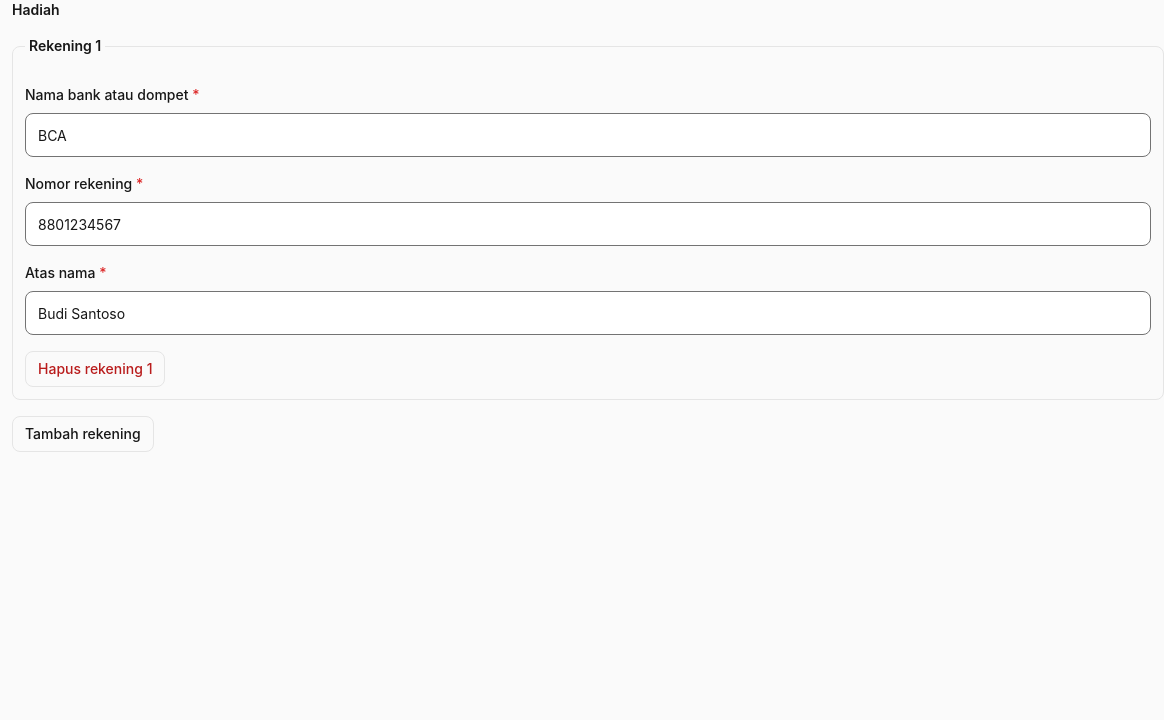
Test: the panel edits collections row by row › does not POST a new row until the API's required fields are filled
This screenshot has width=1164, height=720.
Click the button "Tambah rekening". click: (83, 434)
box: [12,416,154,452]
(page scrolled)
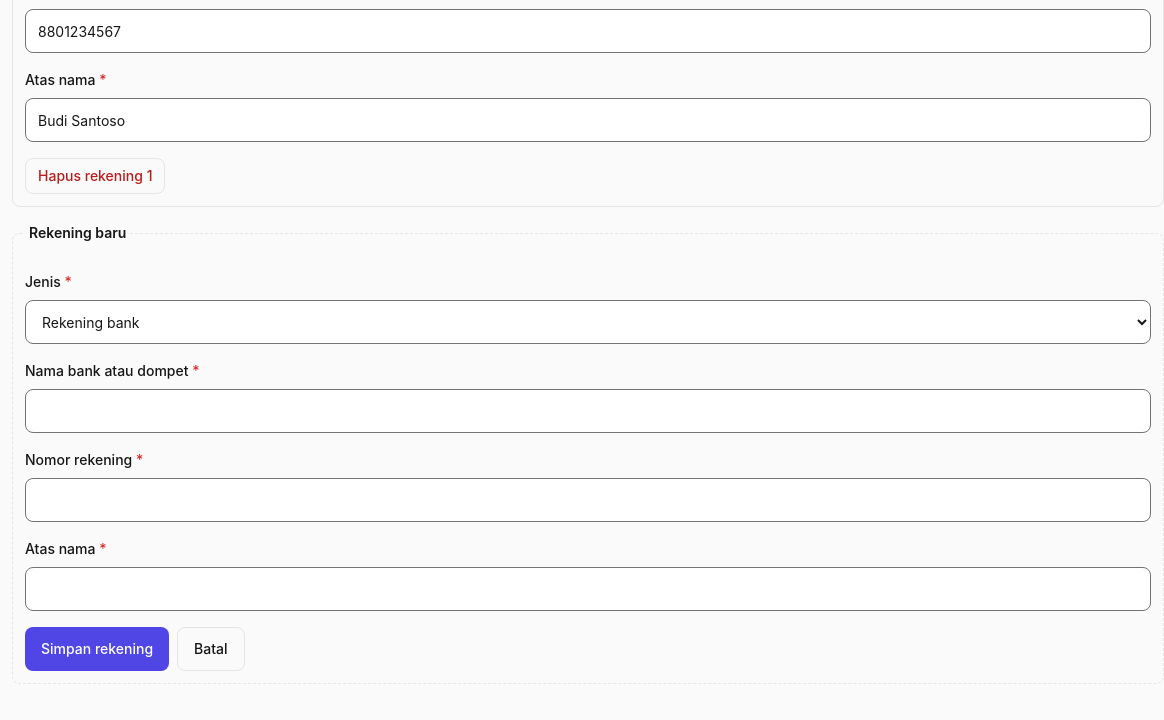
Click the button "Simpan rekening". click: (97, 649)
box: [25,627,169,671]
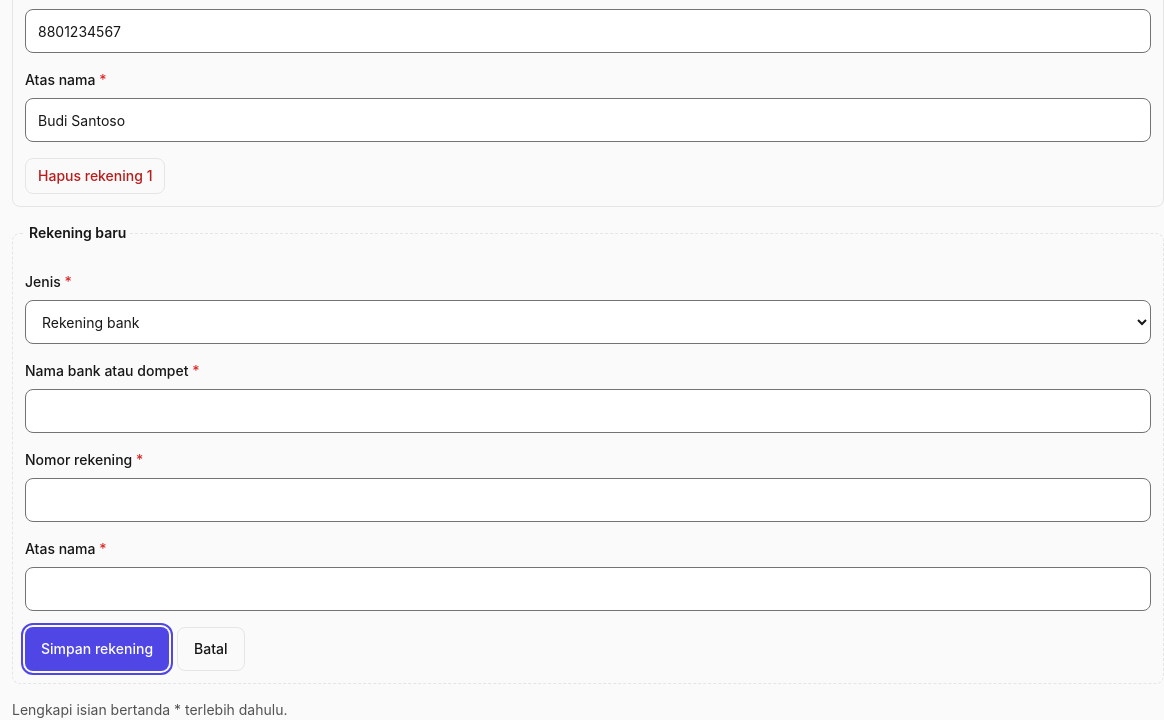
Result: the text "Lengkapi isian bertanda * terlebih dahulu." is shown at [12,701,288,718]
